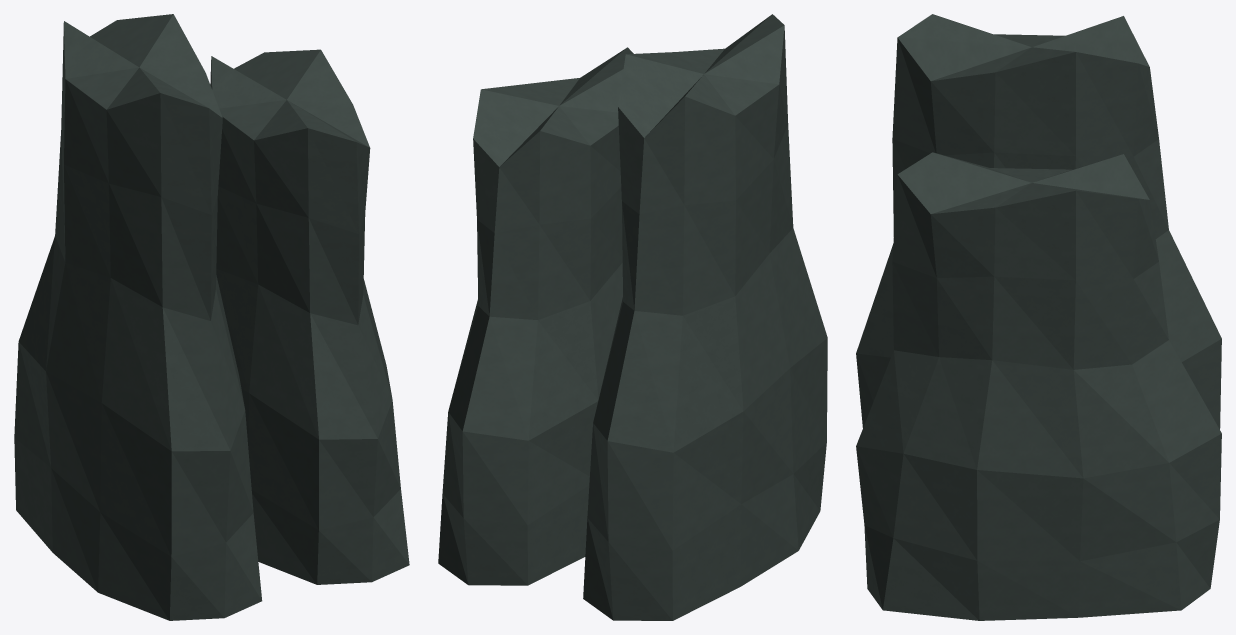
3 renders of one model, left to right at view 1: azimuth 30°, elevation 25°; view 2: azimuth 150°, elevation 25°; view 3: azimuth 270°, elevation 25°, orthographic. The views are drawn at different scales.
Parts seen in each view (by area): view 1: 破岩形状与干湿色尺寸族; view 2: 破岩形状与干湿色尺寸族; view 3: 破岩形状与干湿色尺寸族.
Part boxes in pixels (<box>): 破岩形状与干湿色尺寸族: <box>14,14,409,620</box>; 破岩形状与干湿色尺寸族: <box>438,14,827,620</box>; 破岩形状与干湿色尺寸族: <box>856,14,1221,620</box>.
Size of the model in its own units: 4.49 by 7.82 by 5.12.
Materials: 2 (2 with a texture image).
